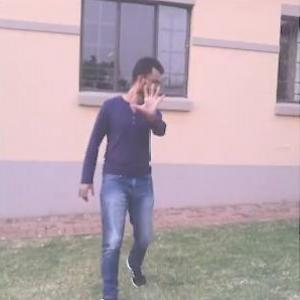follow_hand: (130, 80, 169, 121)
